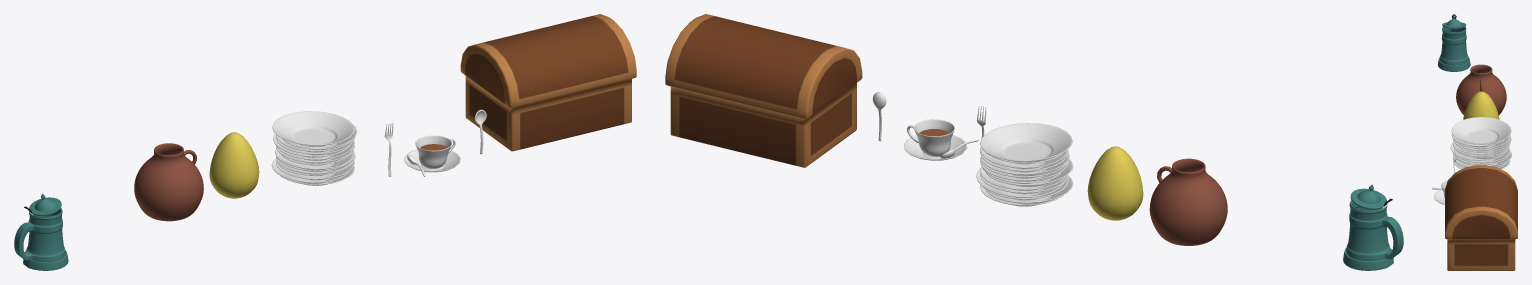
The model's file is T1Basic.fbx.
The picture shows the model from 3 angles, left to right: view 1: azimuth 30°, elevation 25°; view 2: azimuth 150°, elevation 25°; view 3: azimuth 270°, elevation 25°; orthographic projection. The views are drawn at different scales.
Parts seen in each view (by area): view 1: Treasure chest, 圓形, wine jar, 圓柱體.008, Golden Egg, tea cup set; view 2: Treasure chest, 圓形, wine jar, 圓柱體.008, Golden Egg, tea cup set; view 3: Treasure chest, 圓形, wine jar, 圓柱體.008, Golden Egg, tea cup set.
Part boxes in pixels (box(x1,y1,x2,y2)): Treasure chest: box(460, 14, 636, 151); 圓形: box(271, 111, 357, 185); wine jar: box(134, 143, 203, 221); 圓柱體.008: box(14, 193, 68, 270); Golden Egg: box(209, 132, 259, 198); tea cup set: box(404, 135, 460, 172); Treasure chest: box(665, 14, 862, 167); 圓形: box(976, 123, 1073, 206); wine jar: box(1149, 158, 1227, 245); 圓柱體.008: box(1343, 184, 1403, 270); Golden Egg: box(1087, 146, 1143, 220); tea cup set: box(904, 119, 967, 160); Treasure chest: box(1445, 165, 1517, 270); 圓形: box(1450, 117, 1512, 169); wine jar: box(1456, 64, 1506, 115); 圓柱體.008: box(1438, 14, 1470, 71); Golden Egg: box(1463, 91, 1499, 119); tea cup set: box(1433, 180, 1447, 204).
Bounding box in the file's own units: 399 × 53.59 × 66.32.
